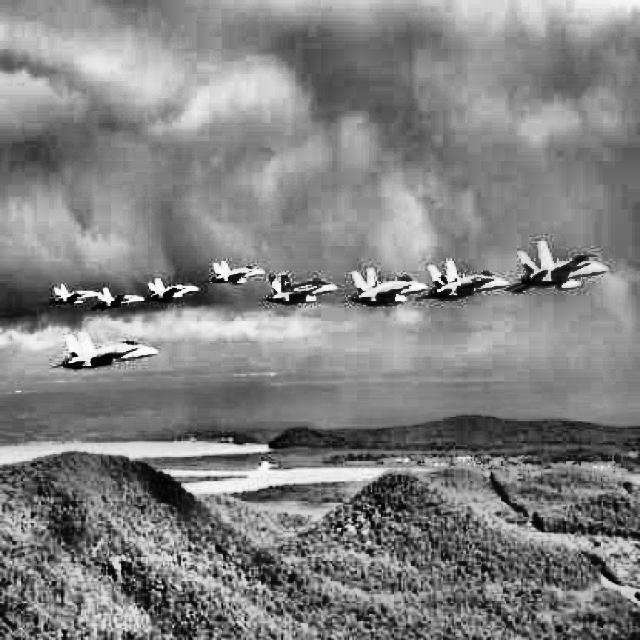F18: (504, 240, 608, 294), (50, 331, 158, 371), (417, 258, 508, 300), (338, 266, 428, 306), (257, 272, 338, 306), (206, 260, 265, 286), (90, 286, 148, 311), (142, 279, 200, 303), (48, 284, 100, 305)
